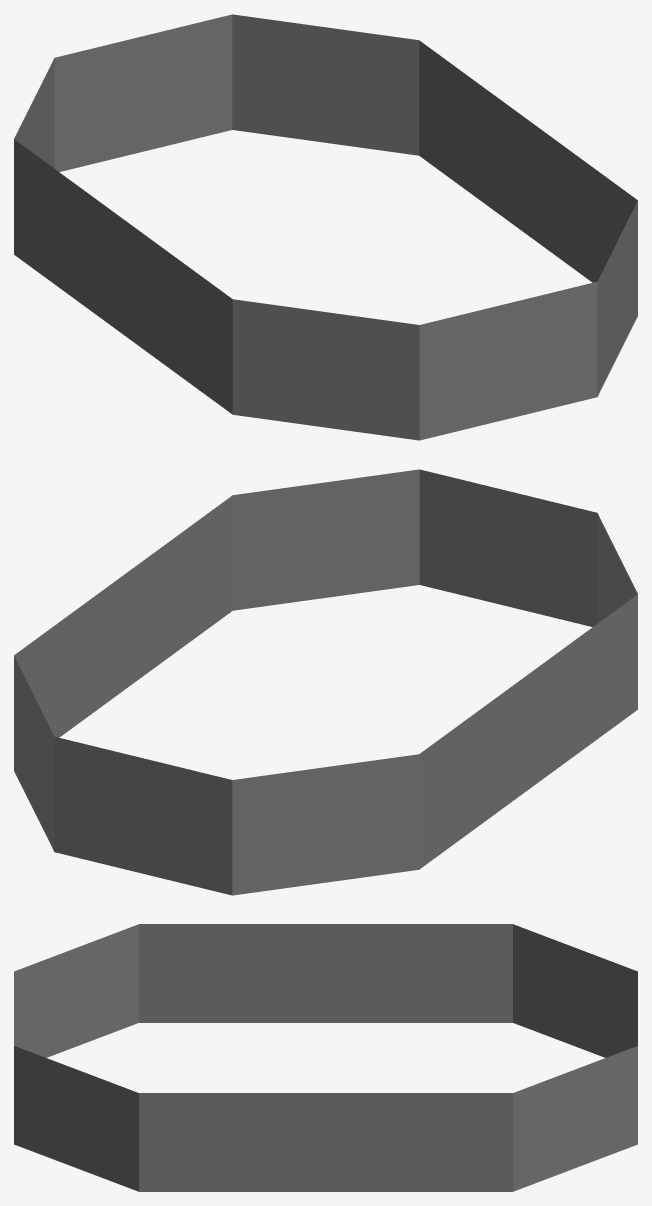
Rendered from table_border.fbx.
The picture shows the model from 3 angles, top to bottom: view 1: azimuth 30°, elevation 25°; view 2: azimuth 150°, elevation 25°; view 3: azimuth 270°, elevation 25°; orthographic projection. The views are drawn at different scales.
Parts seen in each view (by area): view 1: Cube.011; view 2: Cube.011; view 3: Cube.011.
Boxes of the visible parts, x1,y1,x2,y2 form: Cube.011: [14, 14, 637, 440]; Cube.011: [14, 469, 637, 895]; Cube.011: [14, 924, 637, 1191].
Bounding box in the file's own units: 723 × 197 × 1128.
